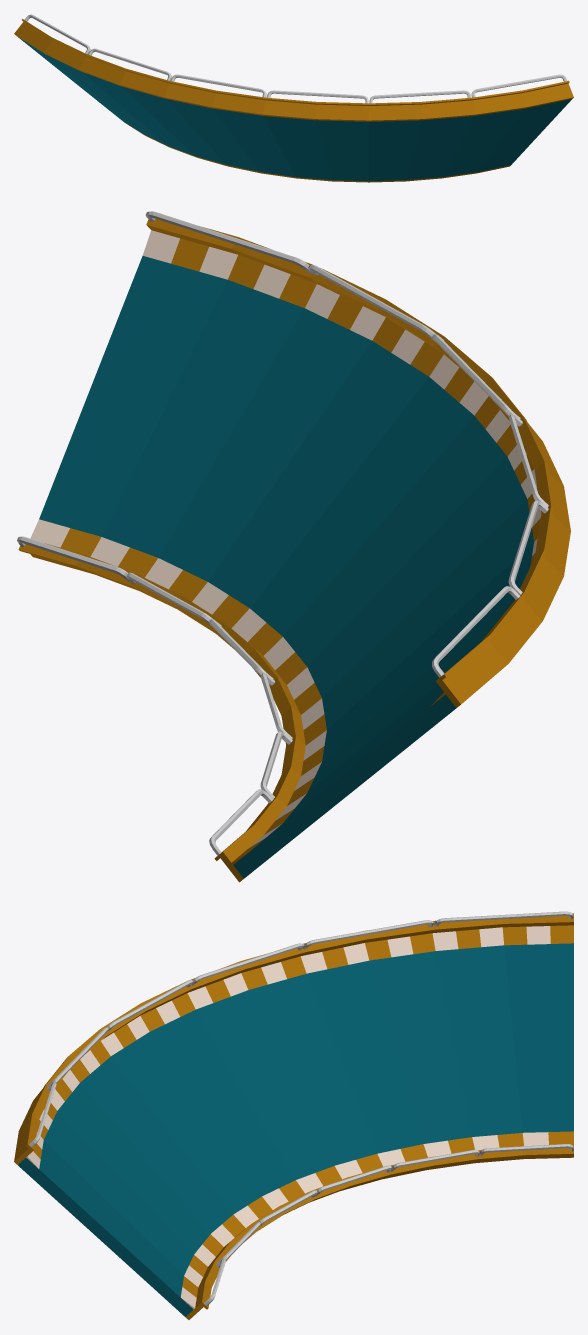
File: bankedRight-90-45_l.FBX
3 renders of one model, top to bottom at view 1: azimuth 30°, elevation 25°; view 2: azimuth 150°, elevation 25°; view 3: azimuth 270°, elevation 25°, orthographic. The views are drawn at different scales.
Visible parts, largest first — view 1: bankedRight-90-45_l, wall_l, wall_r; view 2: bankedRight-90-45_l, wall_l, curbs_l, curbs_r, wall_r; view 3: bankedRight-90-45_l, curbs_l, wall_l, curbs_r, wall_r.
Part boxes in pixels (x1,y1,x2,y2): bankedRight-90-45_l: (18, 37, 571, 181); wall_l: (14, 14, 573, 121); wall_r: (124, 122, 510, 182); bankedRight-90-45_l: (39, 256, 533, 878); wall_l: (145, 211, 570, 707); curbs_l: (142, 230, 541, 706); curbs_r: (30, 519, 326, 864); wall_r: (17, 536, 305, 882); bankedRight-90-45_l: (18, 943, 573, 1316); curbs_l: (26, 925, 573, 1168); wall_l: (14, 911, 573, 1164); curbs_r: (180, 1131, 573, 1309); wall_r: (185, 1144, 573, 1319).
Size of what is drawn, in the model's own units: 453 by 163 by 453.
